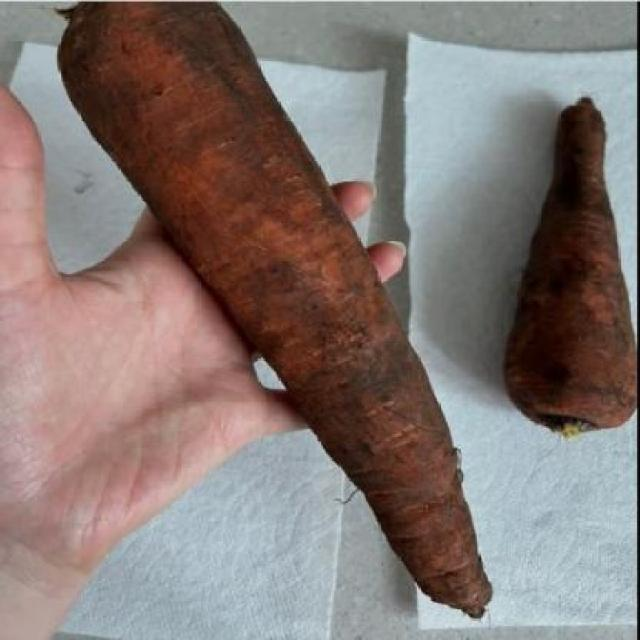carrot: (58, 0, 500, 617), (500, 92, 640, 437)
